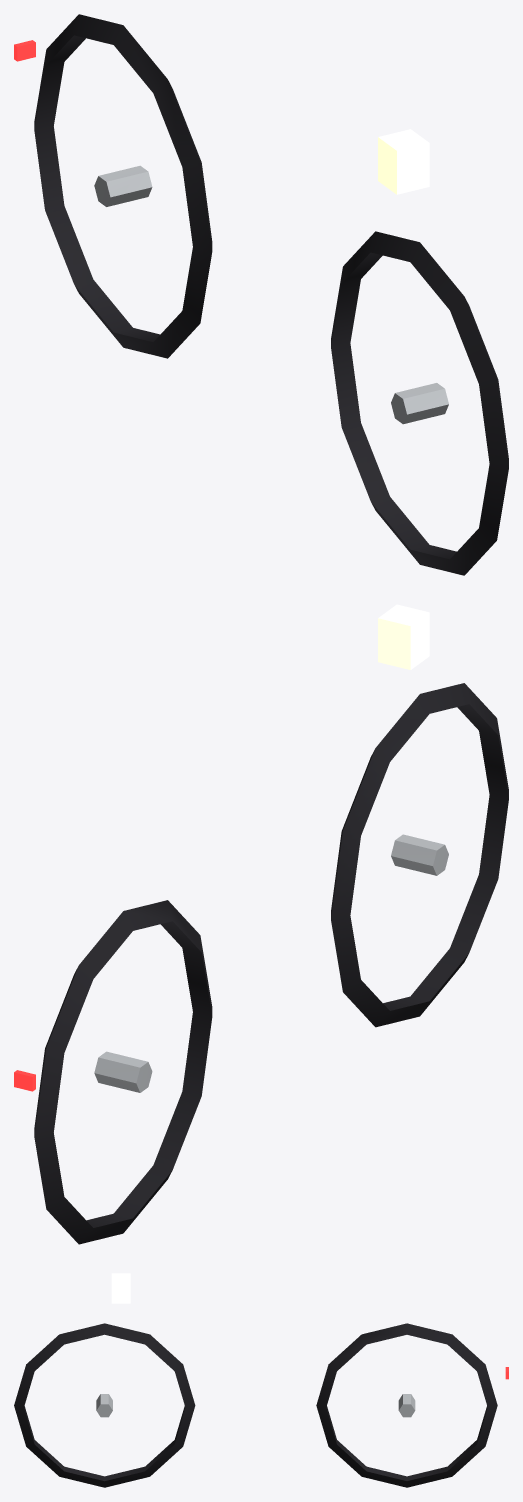
Rendered from veh_bike_lod1.glb.
3 views of the same model, one above another, from view 1: azimuth 30°, elevation 25°; view 2: azimuth 150°, elevation 25°; view 3: azimuth 270°, elevation 25° (orthographic). The views are drawn at different scales.
Parts seen in each view (by area): view 1: wheel_R, wheel_F, glow; view 2: wheel_R, wheel_F, glow; view 3: wheel_R, wheel_F, glow.
Part boxes in pixels (left/top/right/bottom): wheel_R: left=34, top=14, right=212, bottom=358; wheel_F: left=331, top=231, right=508, bottom=575; glow: left=14, top=40, right=429, bottom=194; wheel_R: left=34, top=900, right=212, bottom=1244; wheel_F: left=331, top=683, right=508, bottom=1027; glow: left=14, top=604, right=429, bottom=1091; wheel_R: left=316, top=1323, right=497, bottom=1487; wheel_F: left=14, top=1323, right=195, bottom=1487; glow: left=111, top=1273, right=508, bottom=1379.
Size of what is drawn, in the model's own units: 0.09 by 0.845 by 1.8.
